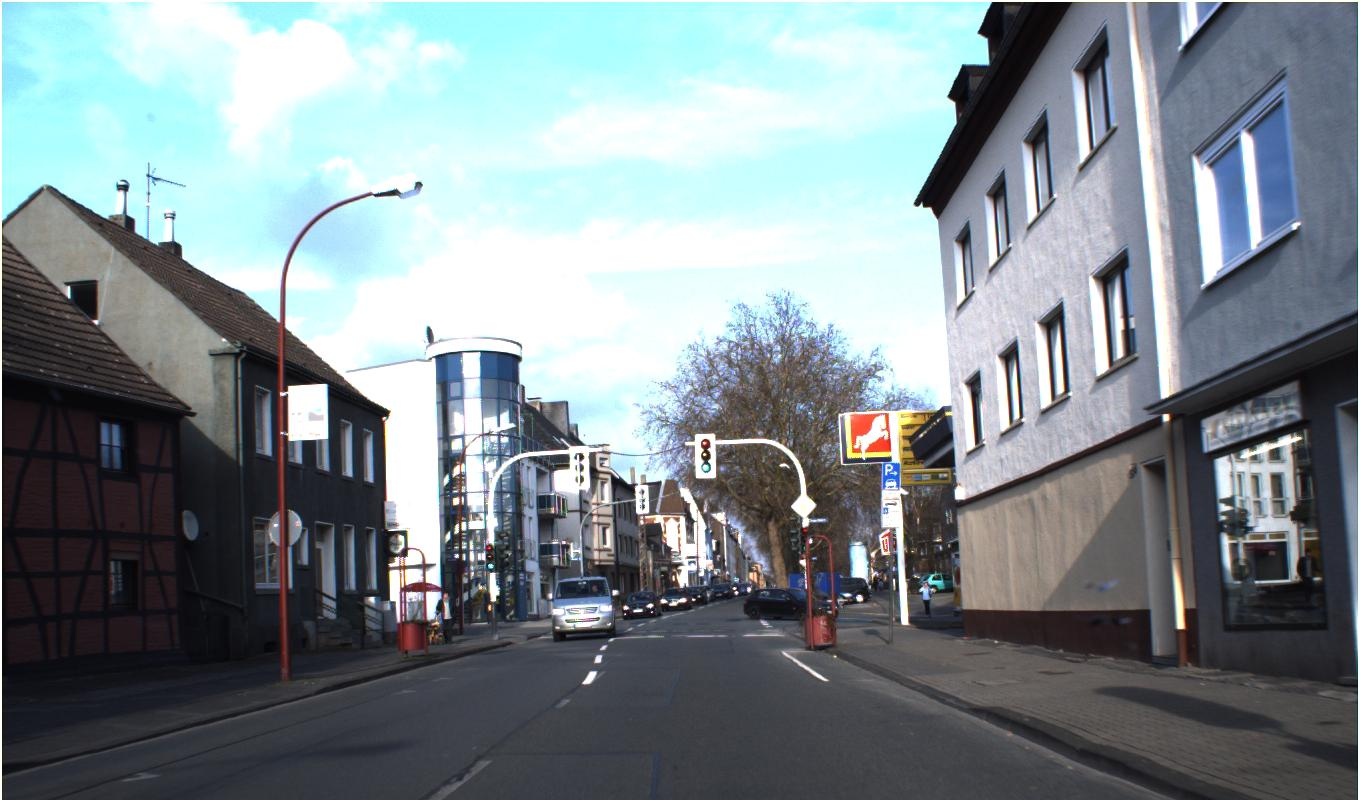sign: (789, 491, 817, 520)
